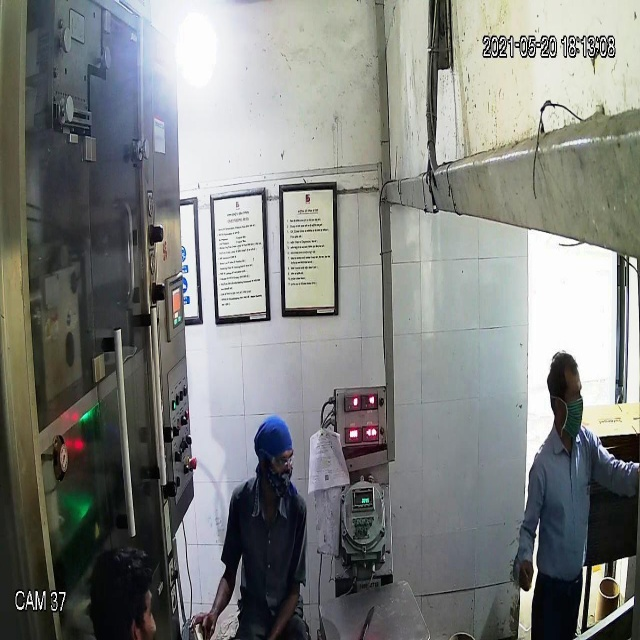Gafas: (258, 444, 295, 476)
